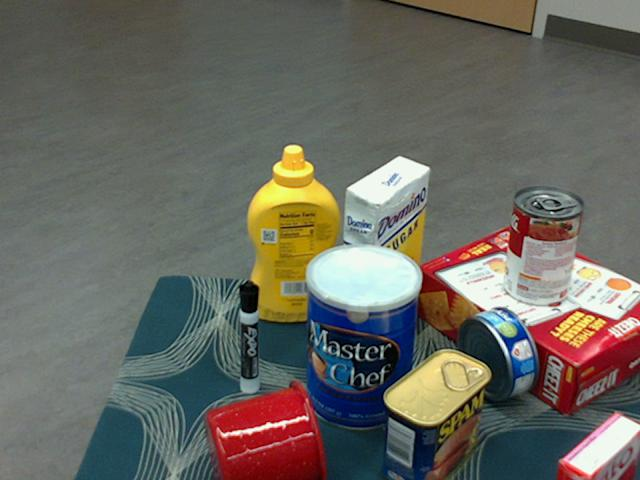cracker_box: (412, 225, 639, 411)
gelatin_box: (553, 411, 639, 479)
large_marker: (237, 279, 258, 394)
master_chef_can: (305, 244, 423, 432)
mug: (203, 379, 327, 479)
mustard_bottle: (246, 145, 339, 322)
potted_meat_can: (382, 349, 491, 479)
sugar_box: (337, 157, 431, 346)
tomato_soup_can: (503, 188, 583, 308)
tuna_fish_can: (458, 306, 540, 400)
